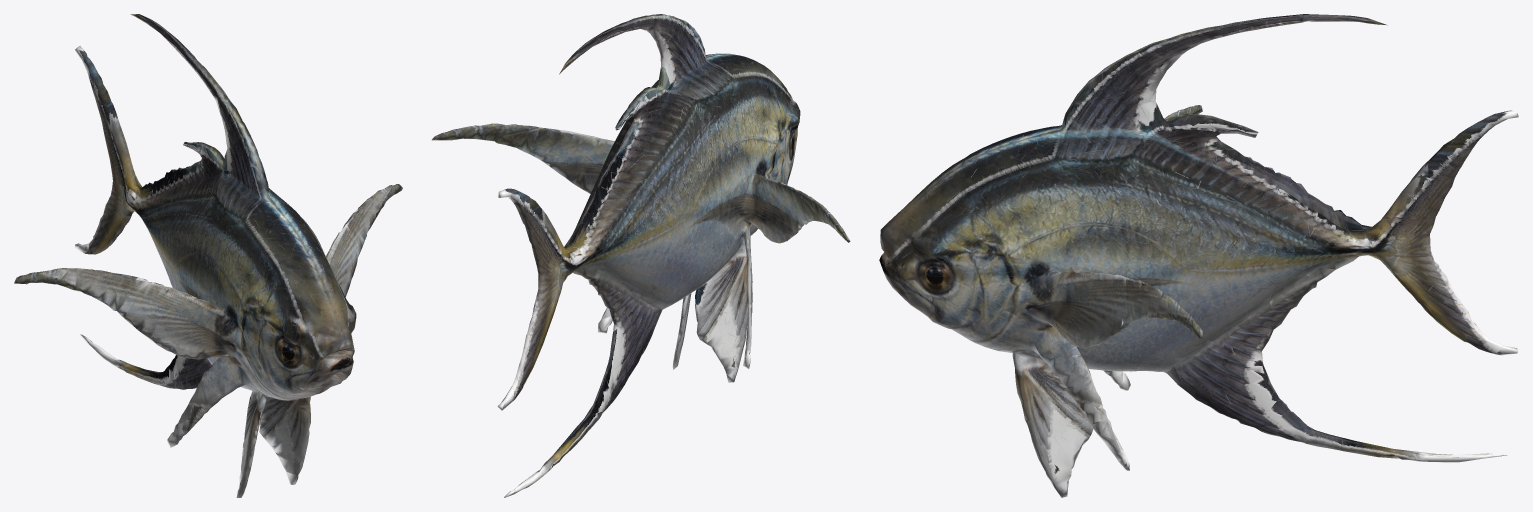
The model's file is fish_threadfin.glb.
3 views of the same model, side by side, from view 1: azimuth 30°, elevation 25°; view 2: azimuth 150°, elevation 25°; view 3: azimuth 270°, elevation 25° (orthographic). The views are drawn at different scales.
Visible parts, largest first — view 1: geometry_0; view 2: geometry_0; view 3: geometry_0.
Boxes of the visible parts, x1,y1,x2,y2 form: geometry_0: [14, 14, 402, 497]; geometry_0: [432, 14, 850, 497]; geometry_0: [879, 14, 1518, 497].
Size of the model in its own units: 1.66 by 1.58 by 1.96.
1 material, 1 textured.
